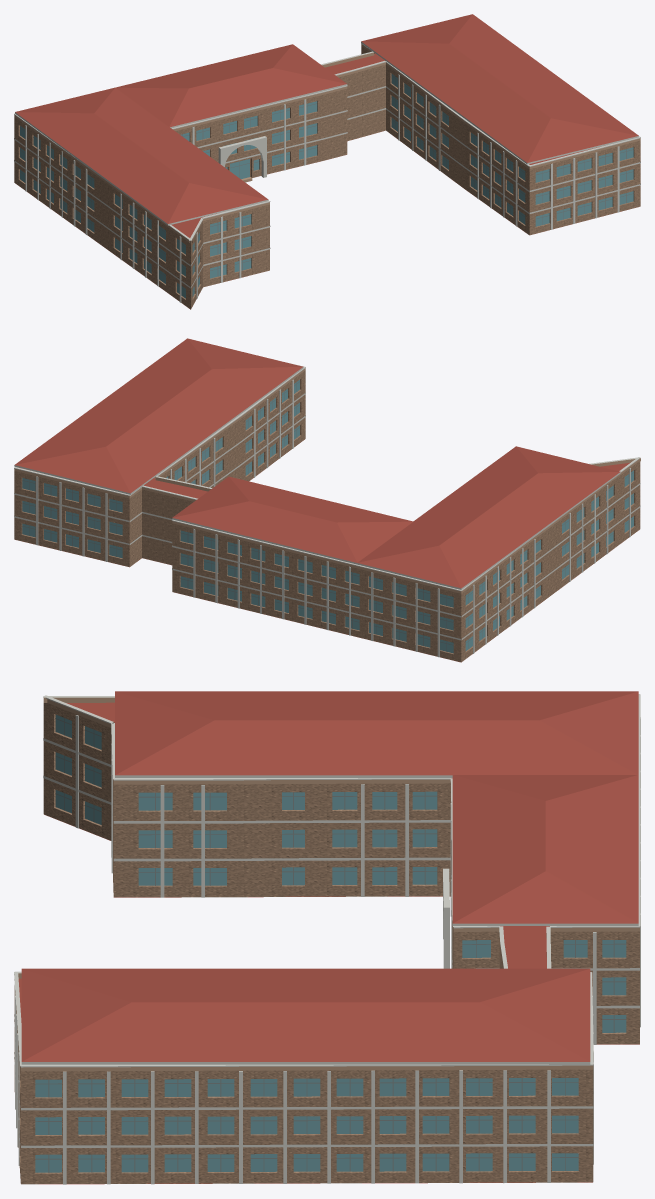
3 views of the same model, one above another, from view 1: azimuth 30°, elevation 25°; view 2: azimuth 150°, elevation 25°; view 3: azimuth 270°, elevation 25° (orthographic). The views are drawn at different scales.
Visible parts, largest first — view 1: culture__roof, culture__wall, culture__trim, culture__glass, culture__parapet, culture__frame; view 2: culture__roof, culture__wall, culture__glass, culture__trim, culture__parapet, culture__frame; view 3: culture__roof, culture__wall, culture__glass, culture__trim, culture__parapet, culture__frame.
Boxes of the visible parts, x1,y1,x2,y2 form: culture__roof: (15,14,638,309); culture__wall: (14,46,640,309); culture__trim: (14,41,640,302); culture__glass: (20,74,633,298); culture__parapet: (14,44,640,243); culture__frame: (20,75,633,296); culture__roof: (15,338,631,662); culture__wall: (14,370,640,662); culture__glass: (22,380,633,653); culture__trim: (14,363,640,657); culture__parapet: (14,368,640,593); culture__frame: (22,381,633,651); culture__roof: (18,691,639,1184); culture__wall: (14,703,639,1184); culture__glass: (35,715,626,1172); culture__trim: (14,694,640,1184); culture__parapet: (18,697,639,1071); culture__frame: (35,718,626,1172).
Size of the model in its own units: 76.43 by 13.25 by 54.39.
8 materials, 1 textured.
